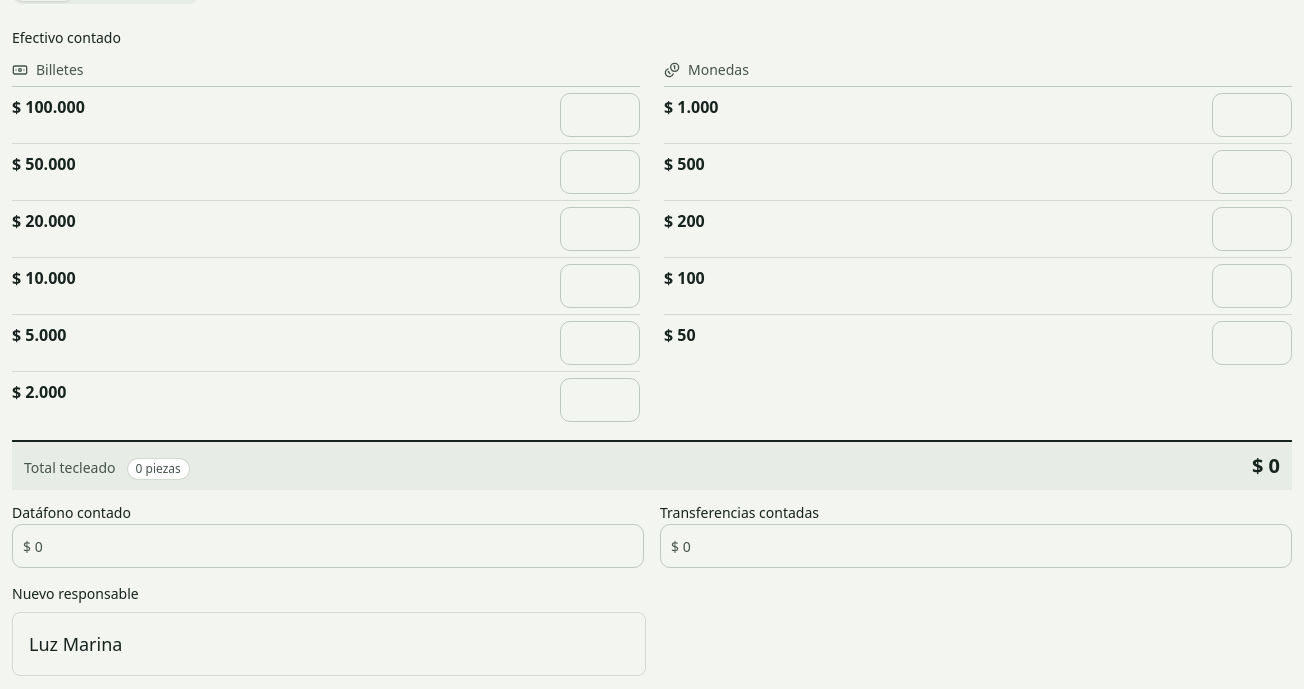
Test case: HandoverPanel — quien recibe confirma con su PIN › un PIN equivocado muestra el mensaje del servidor y no deja tarjeta
Click the radio button labelled "Luz Marina".
click(76, 644)  # box [12, 612, 646, 676]
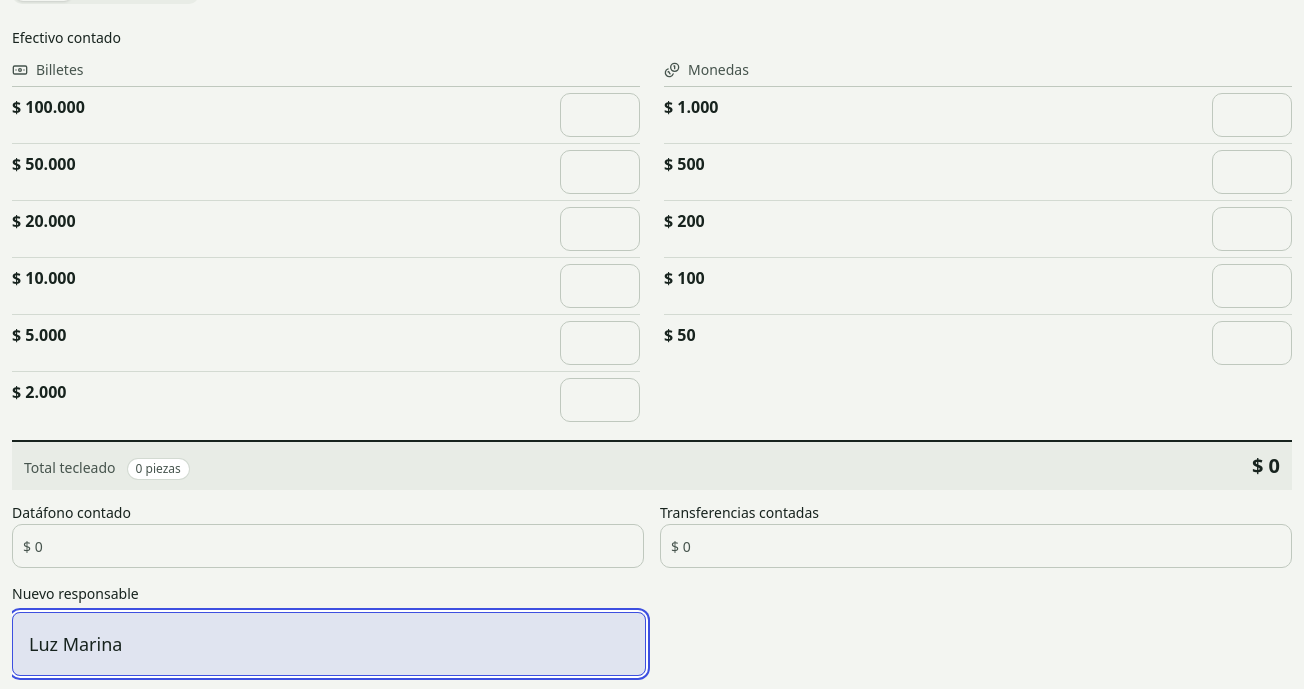
Type keys "0000"
(page scrolled)
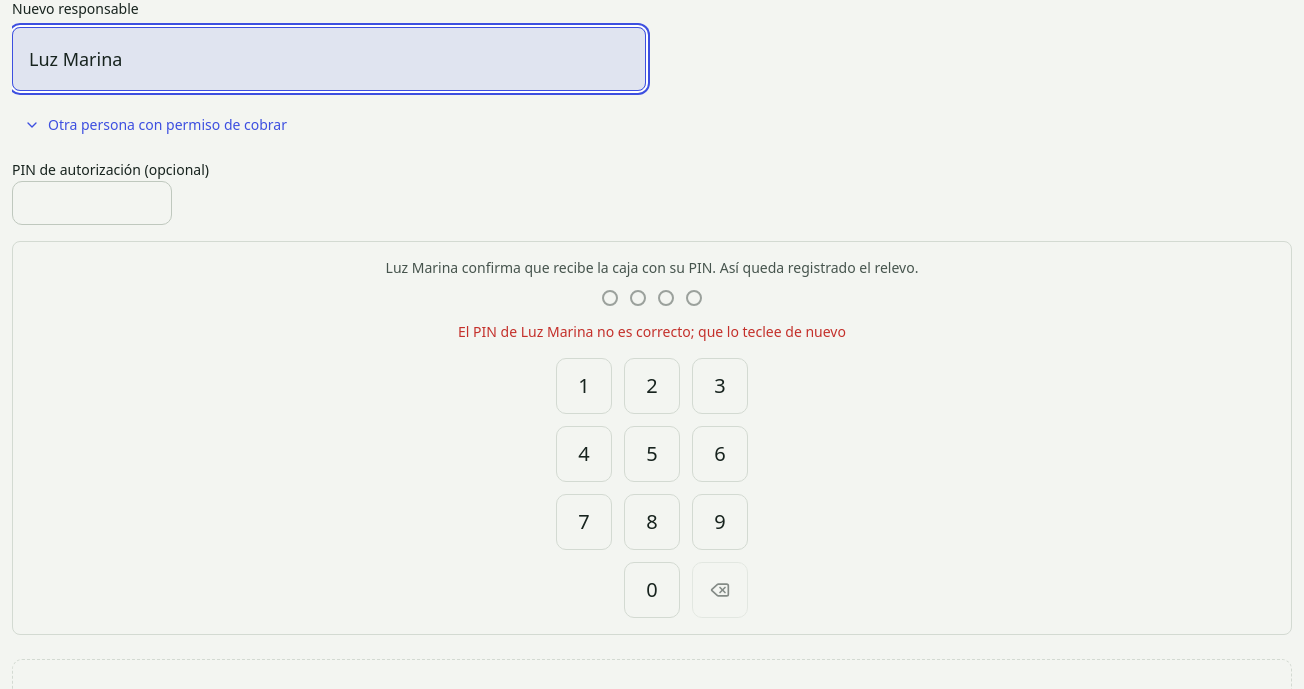
Now the text "El PIN de Luz Marina no es correcto; que lo teclee de nuevo" is shown, box [458, 322, 846, 342]
